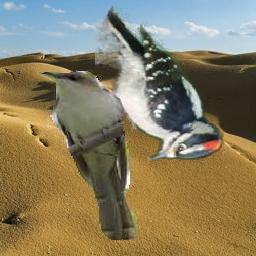Cuckoo: (39, 71, 137, 246)
Woodpecker: (96, 6, 225, 164)
